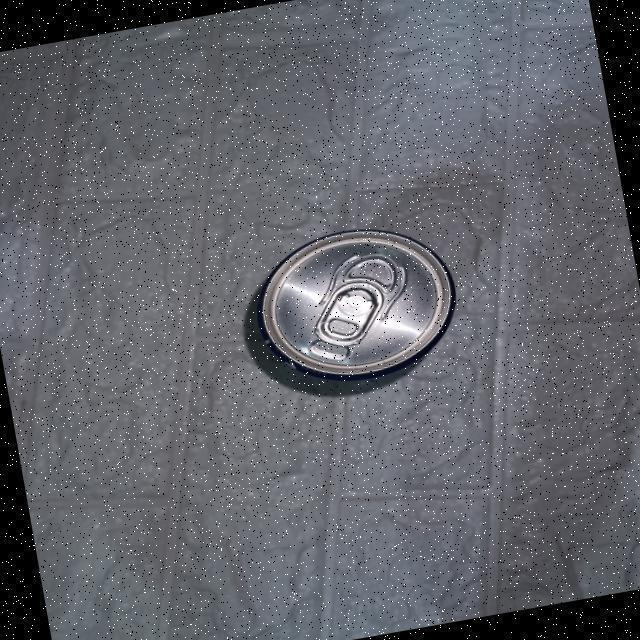metal-can: (244, 223, 455, 396)
